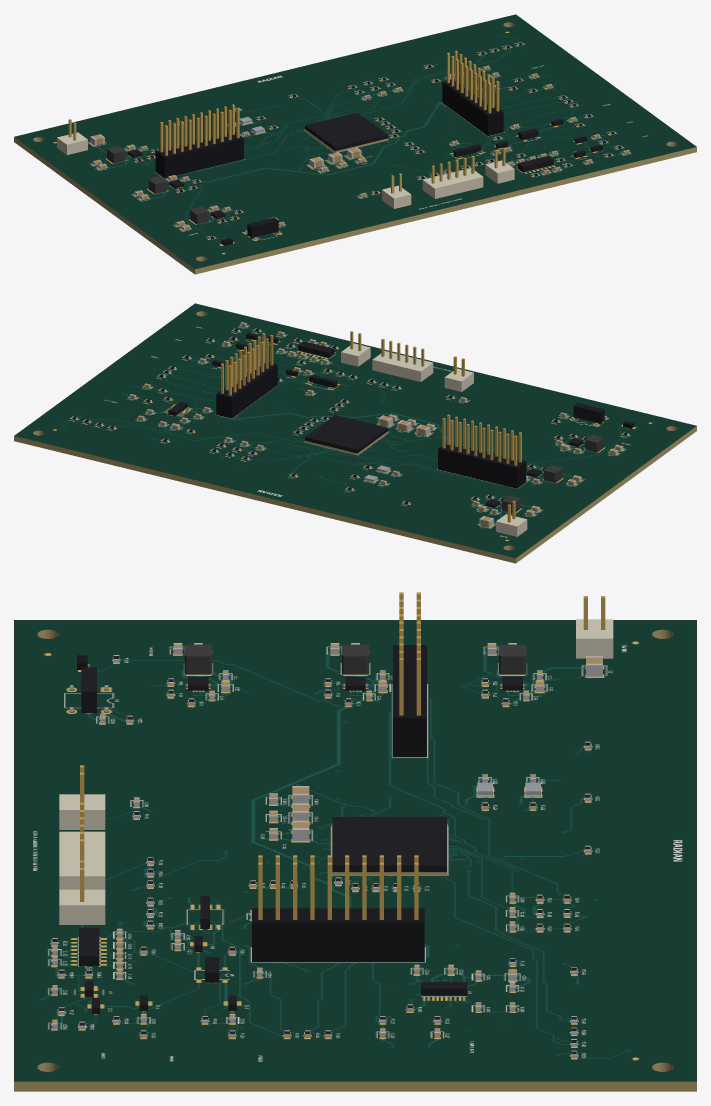
The model's file is courant_mainboard.glb.
The picture shows the model from 3 angles, top to bottom: view 1: azimuth 30°, elevation 25°; view 2: azimuth 150°, elevation 25°; view 3: azimuth 270°, elevation 25°; orthographic projection. The views are drawn at different scales.
Visible parts, largest first — view 1: n1, n0, n387, n164, n408, n140, n207, n356, n159, n31; view 2: n1, n0, n387, n164, n408, n140, n207, n356, n159, n31; view 3: n1, n408, n0, n164, n387, n140, n356, n159, n207, n57, n312, n53 (+2 smaller).
Part boxes in pixels (<box>): n1: <box>14,14,696,269</box>; n0: <box>14,22,696,274</box>; n387: <box>155,132,243,178</box>; n164: <box>305,112,387,151</box>; n408: <box>442,79,503,136</box>; n140: <box>422,168,483,198</box>; n207: <box>57,132,87,154</box>; n356: <box>485,160,514,183</box>; n159: <box>382,185,411,208</box>; n31: <box>247,217,278,237</box>; n1: <box>14,303,696,558</box>; n0: <box>14,311,696,563</box>; n387: <box>438,442,526,488</box>; n164: <box>305,415,387,453</box>; n408: <box>216,361,277,418</box>; n140: <box>372,351,433,381</box>; n207: <box>496,514,527,536</box>; n356: <box>341,343,370,366</box>; n159: <box>444,368,473,391</box>; n31: <box>573,403,604,423</box>; n1: <box>14,620,696,1081</box>; n408: <box>252,908,424,961</box>; n0: <box>14,629,696,1091</box>; n164: <box>332,817,446,872</box>; n387: <box>393,645,426,757</box>; n140: <box>59,831,105,889</box>; n356: <box>59,889,105,924</box>; n159: <box>59,794,105,829</box>; n207: <box>576,619,613,658</box>; n57: <box>184,644,211,674</box>; n312: <box>499,644,526,674</box>; n53: <box>342,644,368,674</box>.
Size of the model in its own units: 160 by 18.1 by 100.
2 materials, 2 textured.
